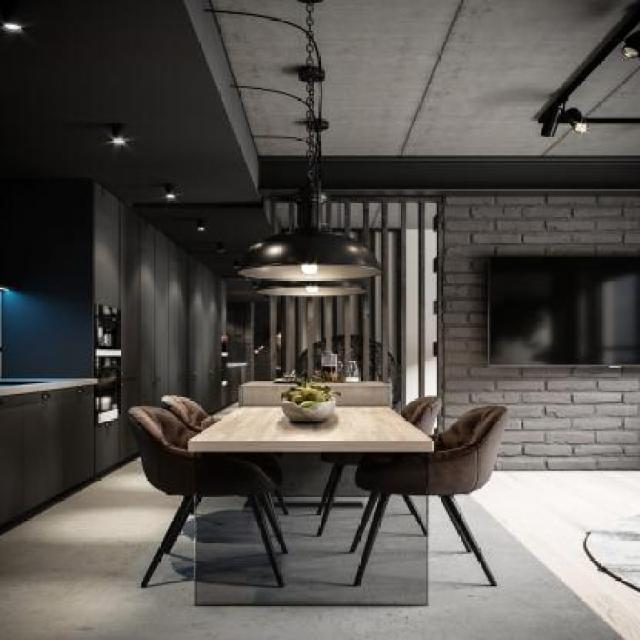floor: (0, 457, 640, 638), (200, 494, 428, 601)
